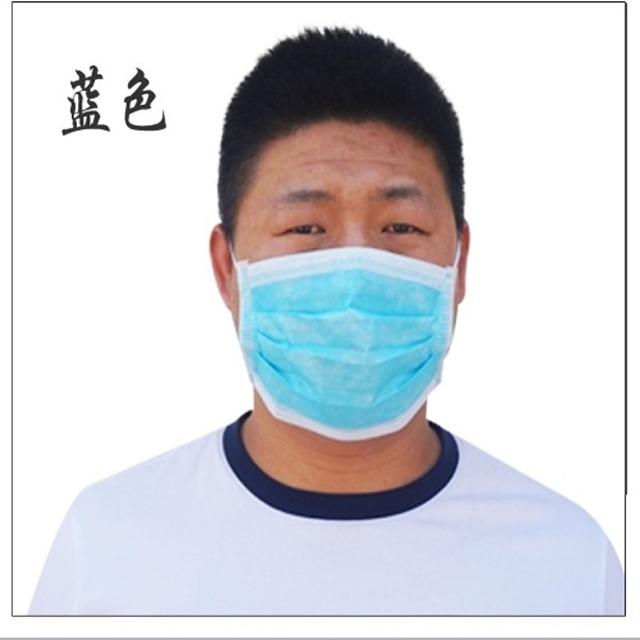mask: (235, 244, 461, 446)
person: (28, 27, 624, 615)
